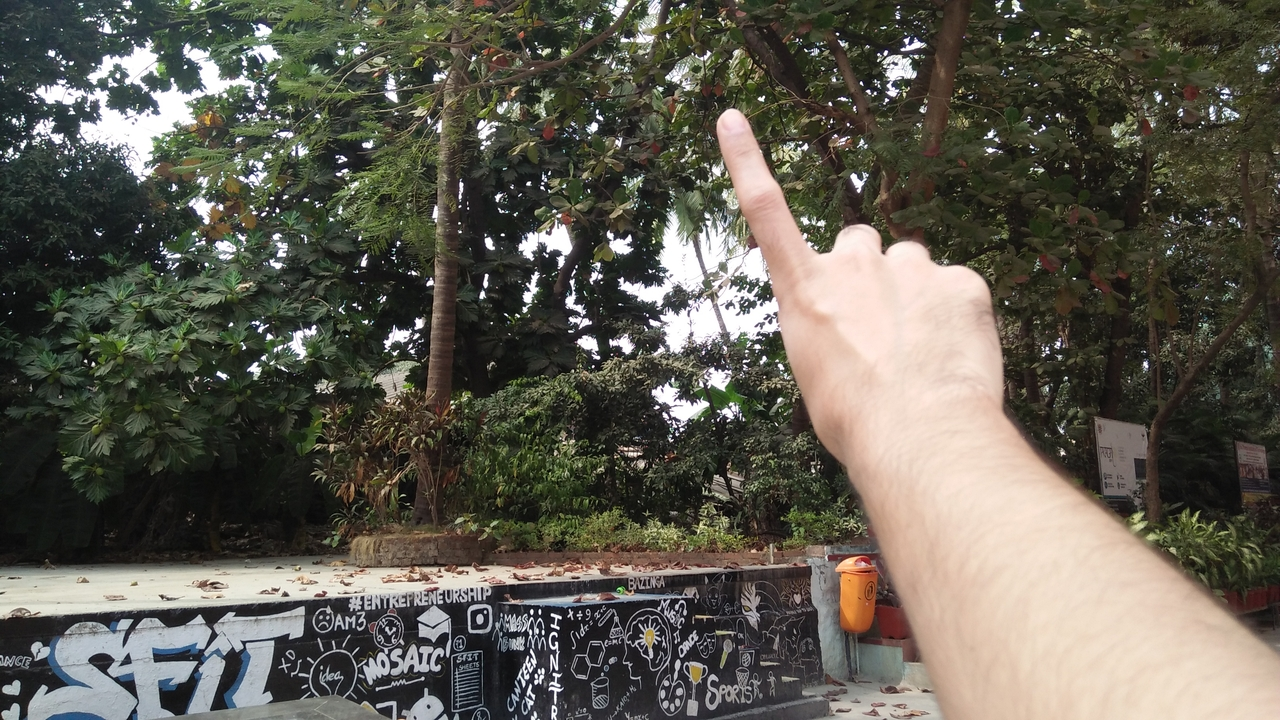fingertip: (712, 102, 760, 152)
